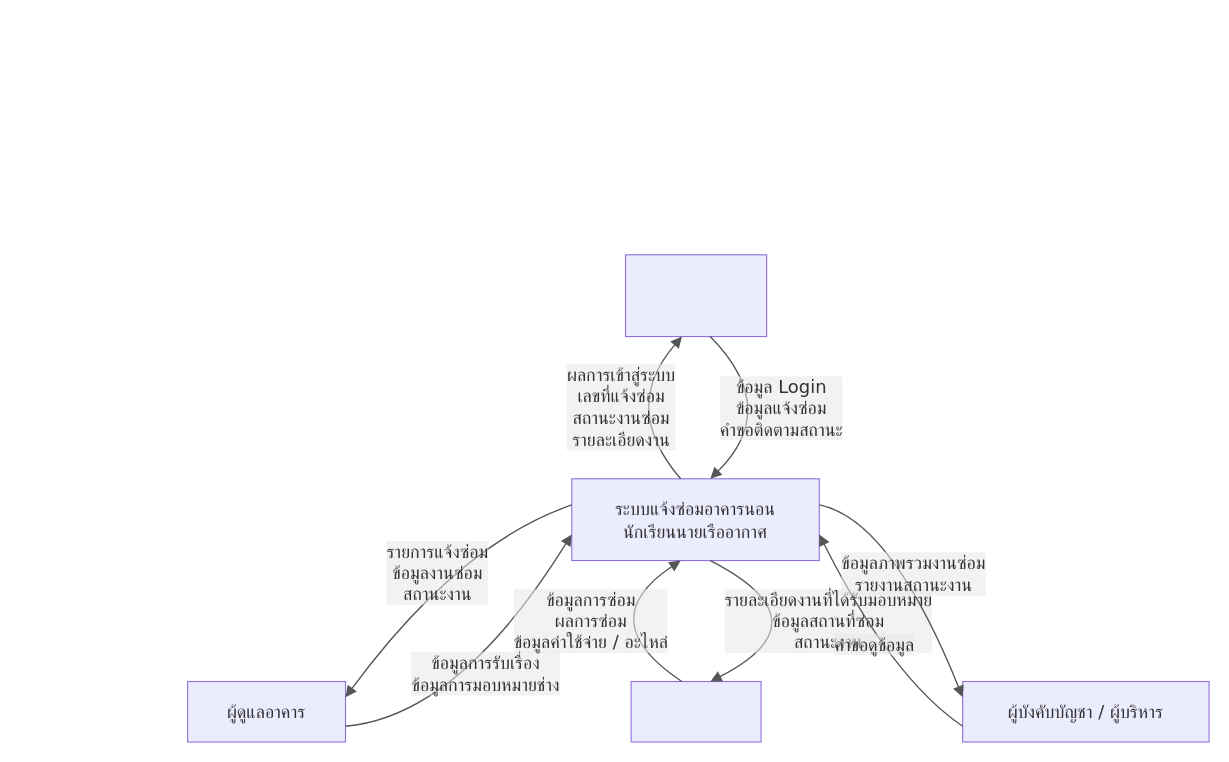
This 1229x762 diagram has some shape labels left out. Each missing label, with the centre of its shape:
"ช่างซ่อม" goes at point (695, 711).
"ผู้แจ้งซ่อม (นนอ.)" goes at point (695, 295).
